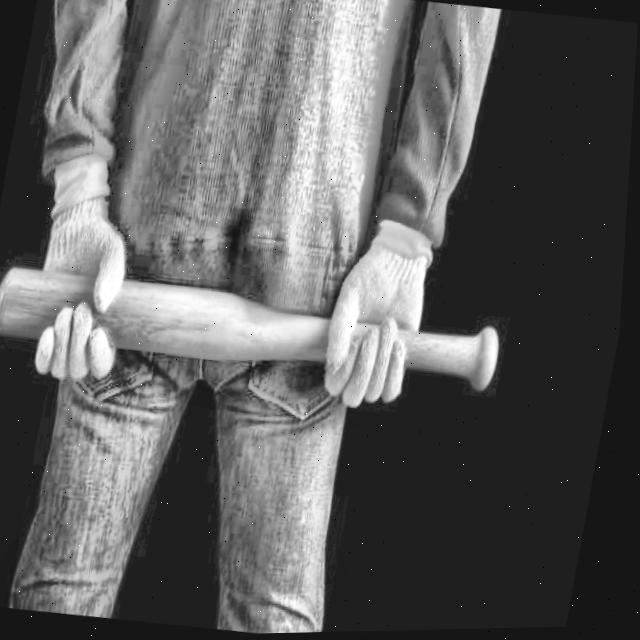tongkat pemukul: (0, 235, 525, 421)
